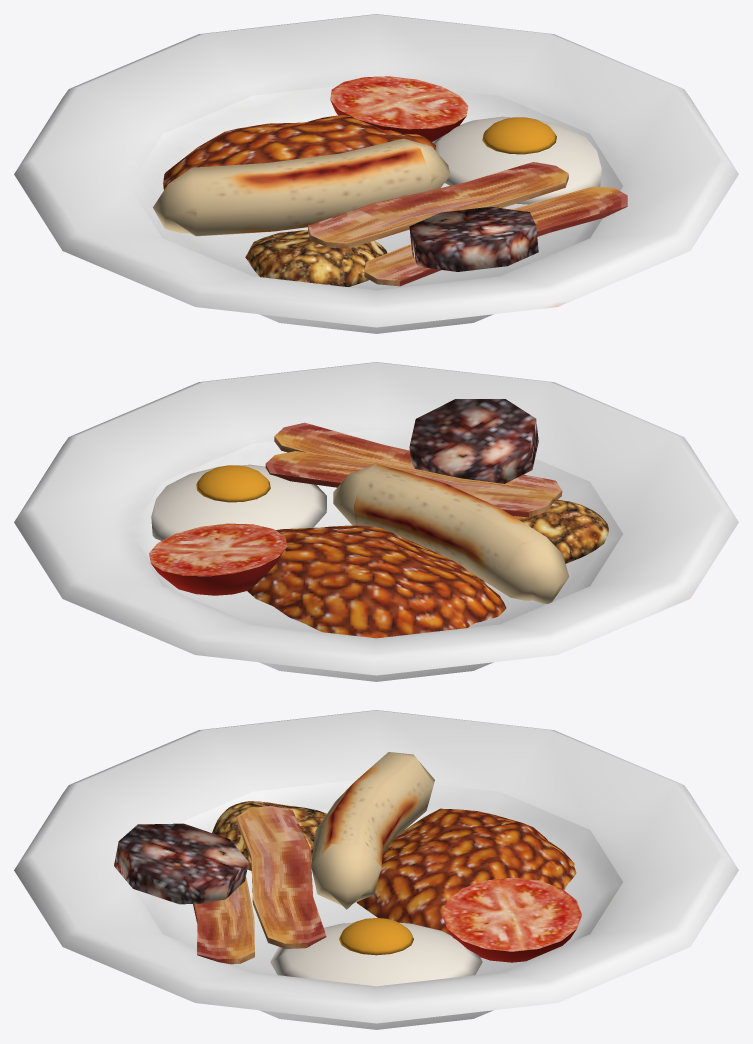
Rendered from VFX_PlateFullEnglishBreakfast.fbx.
3 views of the same model, one above another, from view 1: azimuth 30°, elevation 25°; view 2: azimuth 150°, elevation 25°; view 3: azimuth 270°, elevation 25° (orthographic).
Parts seen in each view (by area): view 1: Plate Full English Breakfast; view 2: Plate Full English Breakfast; view 3: Plate Full English Breakfast.
Part boxes in pixels (x1,y1,x2,y2): Plate Full English Breakfast: (14, 14, 738, 333); Plate Full English Breakfast: (14, 362, 738, 681); Plate Full English Breakfast: (14, 710, 738, 1029).
Size of the model in its own units: 0.1587 by 0.0276 by 0.1587.
